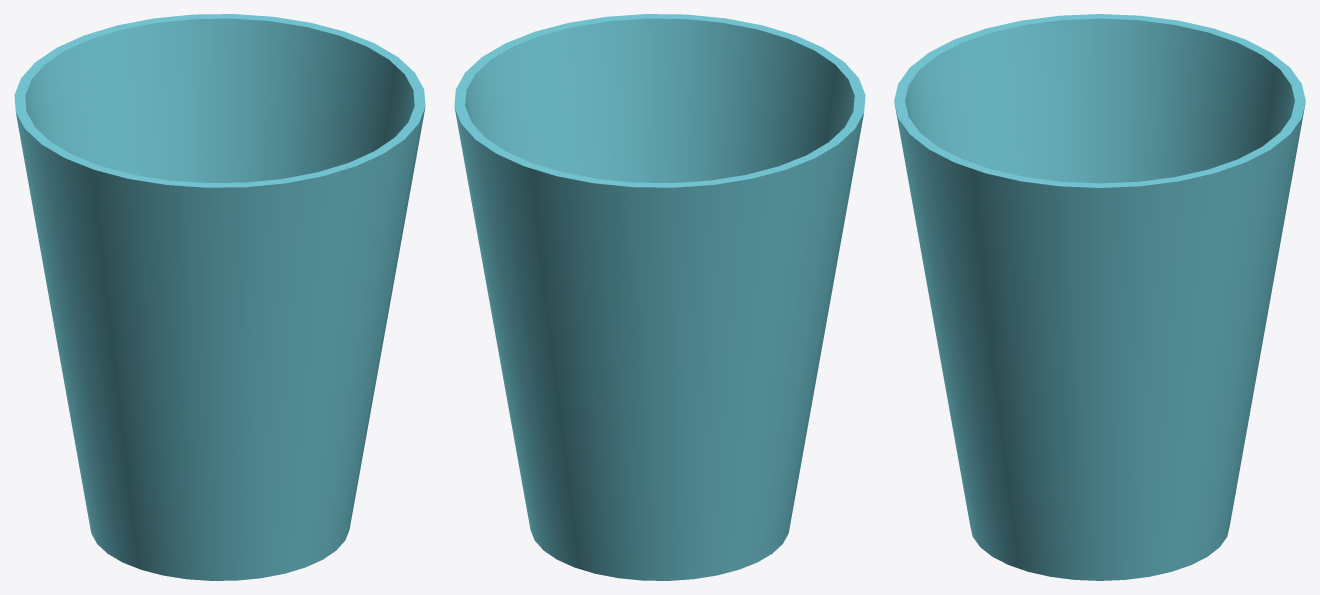
File: thrash can (1).fbx
The picture shows the model from 3 angles, left to right: view 1: azimuth 30°, elevation 25°; view 2: azimuth 150°, elevation 25°; view 3: azimuth 270°, elevation 25°; orthographic projection.
Visible parts, largest first — view 1: Cylinder; view 2: Cylinder; view 3: Cylinder.
Boxes of the visible parts, x1=… form: Cylinder: x1=14, y1=14, x2=425, y2=580; Cylinder: x1=454, y1=14, x2=865, y2=580; Cylinder: x1=894, y1=14, x2=1305, y2=580.
Bounding box in the file's own units: 545 × 621 × 545.
